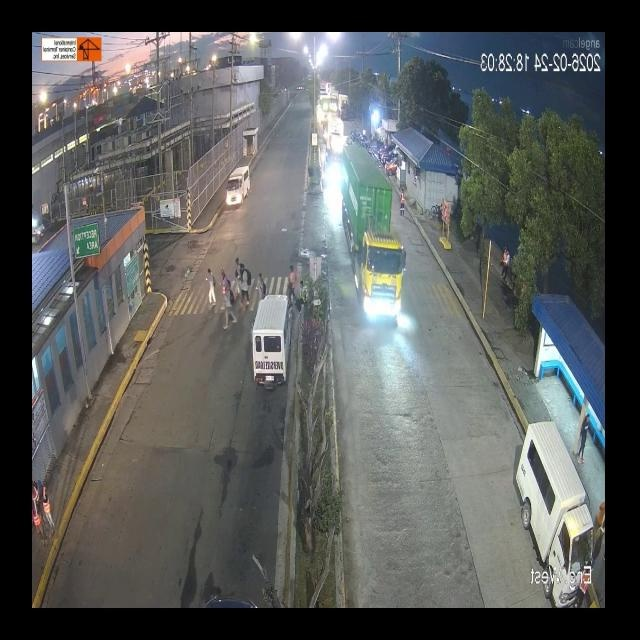car: (513, 440, 598, 572), (246, 294, 294, 393), (226, 161, 254, 211)
truck: (230, 141, 330, 332)
